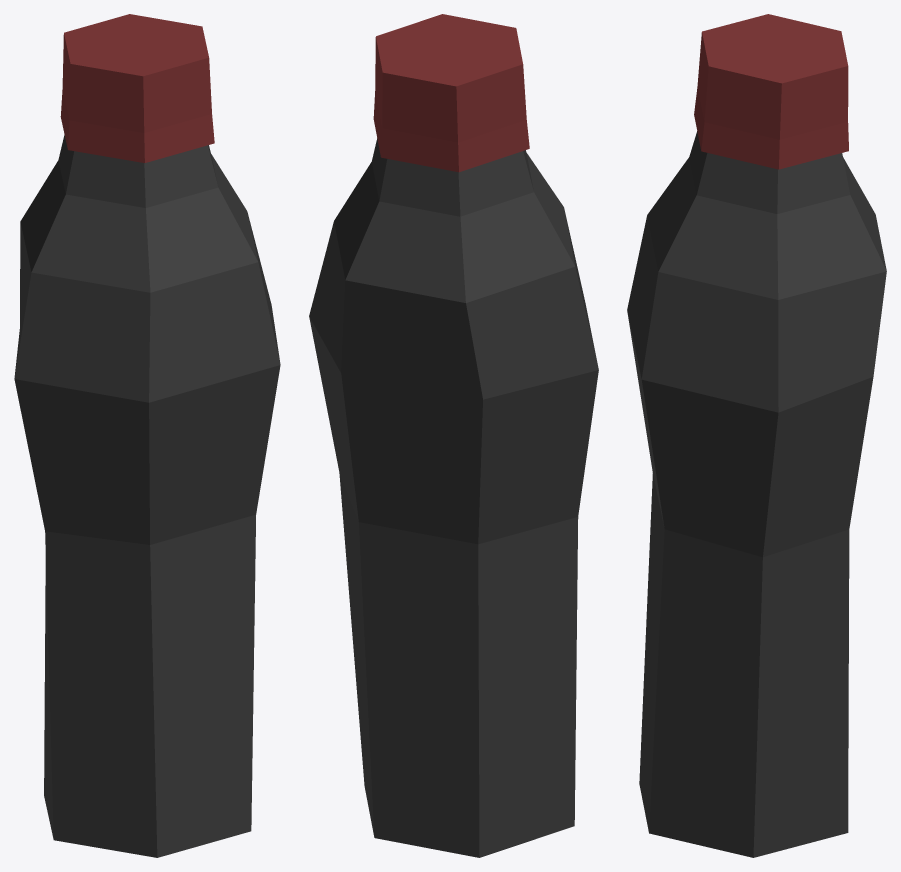
The model's file is Bottle_26.fbx.
3 views of the same model, side by side, from view 1: azimuth 30°, elevation 25°; view 2: azimuth 150°, elevation 25°; view 3: azimuth 270°, elevation 25° (orthographic).
Parts seen in each view (by area): view 1: Bottle_26; view 2: Bottle_26; view 3: Bottle_26.
Part boxes in pixels (<box>): Bottle_26: <box>14,14,280,857</box>; Bottle_26: <box>309,14,598,857</box>; Bottle_26: <box>627,14,886,857</box>.
Bounding box in the file's own units: 20.57 × 16.91 × 55.19.
